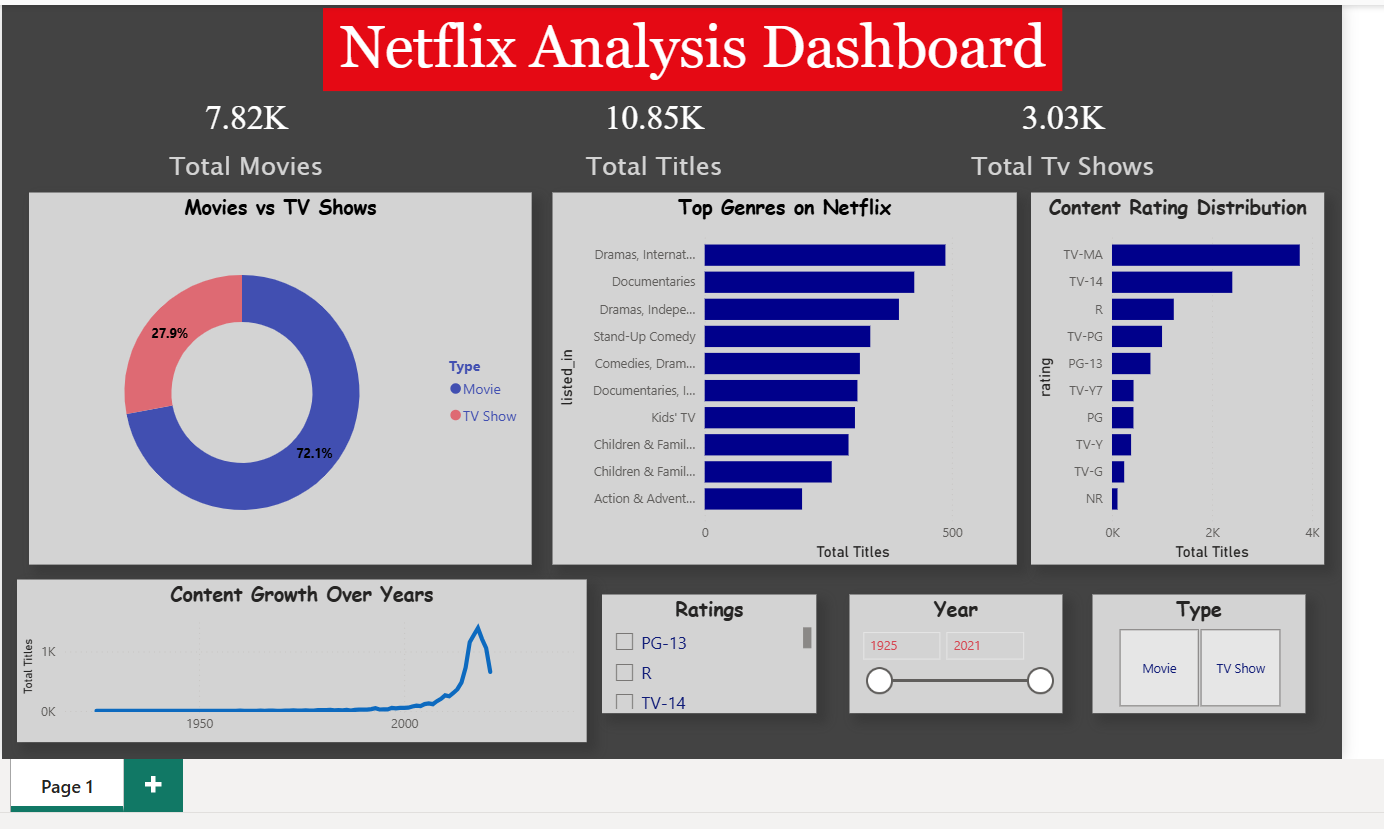

The dashboard page shown, as its layout file describes it:
{"tool":"powerbi","page":{"name":"Page 1","canvas":[1280,720],"ordinal":0},"visuals":[{"type":"card","fields":{"Values":["netflix_titles.Total Movies"]},"box":[136,40,193.6,168],"z":0},{"type":"textbox","box":[307,3.2,706.2,79.5],"z":1000},{"type":"card","fields":{"Values":["netflix_titles.Total Titles"]},"box":[525.6,40,193.6,168],"z":2000},{"type":"card","fields":{"Values":["netflix_titles.Total Tv Shows"]},"box":[915.2,40,195.2,168],"z":3000},{"type":"donutChart","title":"Movies vs TV Shows","fields":{"Category":["netflix_titles.type"],"Y":["netflix_titles.Total Titles"]},"box":[25.6,179.2,480,355.2],"z":4000},{"type":"barChart","title":"Top Genres on Netflix","fields":{"Category":["netflix_titles.listed_in"],"Y":["netflix_titles.Total Titles"]},"box":[526.4,179.2,443.2,355.2],"z":5000},{"type":"lineChart","title":"Content Growth Over Years","fields":{"Category":["netflix_titles.release_year"],"Y":["netflix_titles.Total Titles"]},"box":[14.4,548.8,544,155.2],"z":6000},{"type":"clusteredBarChart","title":"Content Rating Distribution","fields":{"Category":["netflix_titles.rating"],"Y":["netflix_titles.Total Titles"]},"box":[982.4,179.2,280,355.2],"z":7000},{"type":"slicer","title":"Type","fields":{"Values":["netflix_titles.type"]},"box":[1041.6,563.2,203.2,113.6],"z":9000},{"type":"slicer","title":"Year","fields":{"Values":["netflix_titles.release_year"]},"box":[809.6,563.2,203.2,113.6],"z":10000},{"type":"slicer","title":"Ratings","fields":{"Values":["netflix_titles.rating"]},"box":[572.8,563.2,204.8,113.6],"z":11000}]}

Visuals, with their boxes in screenshot pixels (x1, y1, x2, y2):
card - netflix_titles.Total Movies: region(138, 39, 344, 218)
textbox: region(320, 0, 1073, 85)
card - netflix_titles.Total Titles: region(553, 39, 760, 218)
card - netflix_titles.Total Tv Shows: region(969, 39, 1177, 218)
"Movies vs TV Shows" donutChart: region(20, 187, 532, 566)
"Top Genres on Netflix" barChart: region(554, 187, 1027, 566)
"Content Growth Over Years" lineChart: region(8, 582, 588, 747)
"Content Rating Distribution" clusteredBarChart: region(1040, 187, 1339, 566)
"Type" slicer: region(1103, 597, 1320, 718)
"Year" slicer: region(856, 597, 1073, 718)
"Ratings" slicer: region(604, 597, 822, 718)
